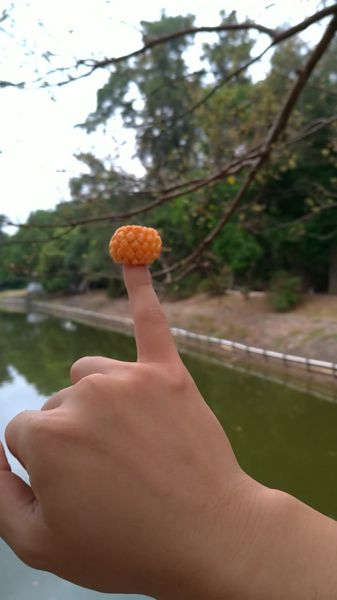eggs: (107, 224, 162, 267)
